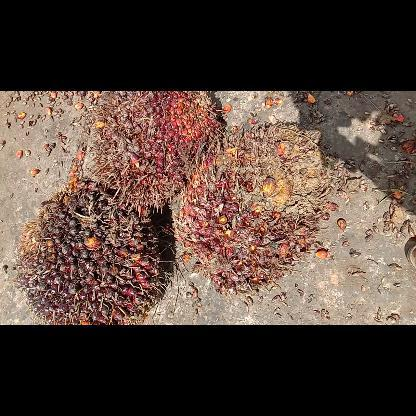Kurang masak: (14, 181, 166, 324), (90, 90, 222, 208)
TBS masak: (178, 122, 331, 294)
